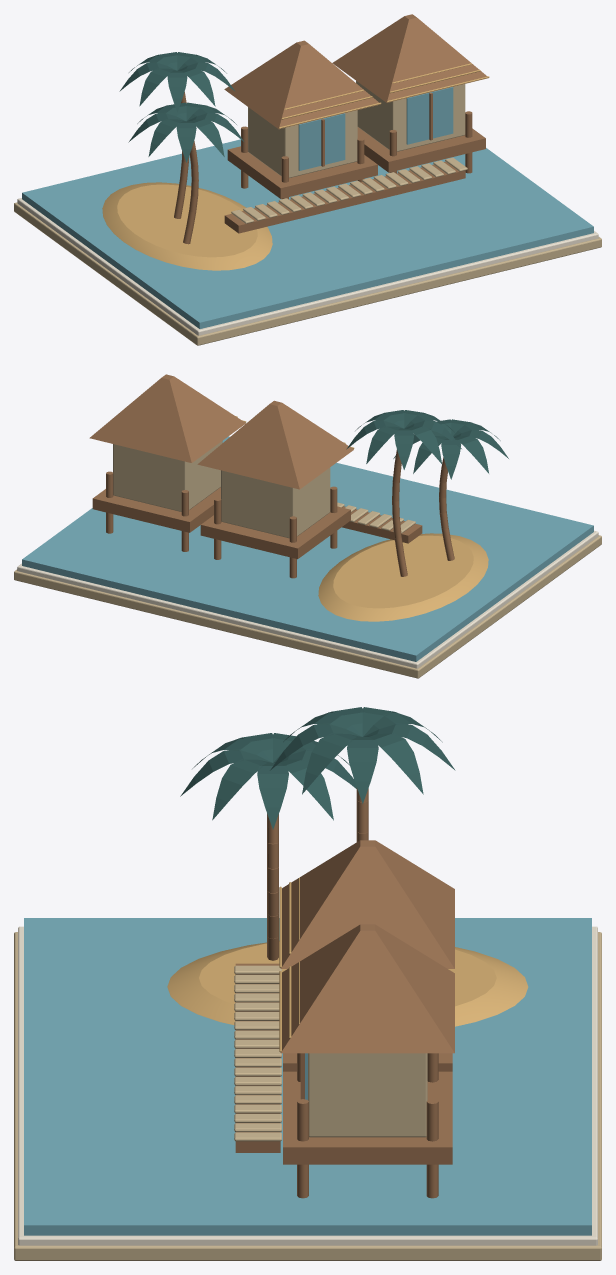
The model's file is maldives.glb.
3 views of the same model, one above another, from view 1: azimuth 30°, elevation 25°; view 2: azimuth 150°, elevation 25°; view 3: azimuth 270°, elevation 25° (orthographic). The views are drawn at different scales.
Visible parts, largest first — view 1: maldives_glass, maldives_bronze, maldives_stone, maldives_sand, maldives_roof, maldives_ivory; view 2: maldives_glass, maldives_bronze, maldives_stone, maldives_sand, maldives_roof, maldives_ivory; view 3: maldives_glass, maldives_bronze, maldives_stone, maldives_roof, maldives_ivory, maldives_sand.
Part boxes in pixels (x1,y1,x2,y2): maldives_glass: (22,87,593,328); maldives_bronze: (174,14,488,244); maldives_stone: (14,81,601,345); maldives_sand: (102,63,489,270); maldives_roof: (119,52,243,162); maldives_ivory: (17,198,598,335); maldives_glass: (22,436,593,661); maldives_bronze: (89,374,454,578); maldives_stone: (14,441,601,678); maldives_sand: (235,416,488,621); maldives_roof: (346,410,508,479); maldives_ivory: (17,530,598,668); maldives_glass: (24,918,591,1235); maldives_bronze: (235,787,454,1198); maldives_stone: (14,932,601,1260); maldives_roof: (180,707,455,829); maldives_ivory: (18,926,597,1245); maldives_sand: (167,877,528,1052).
Size of the model in its own units: 7.5 by 3.2 by 5.9.
